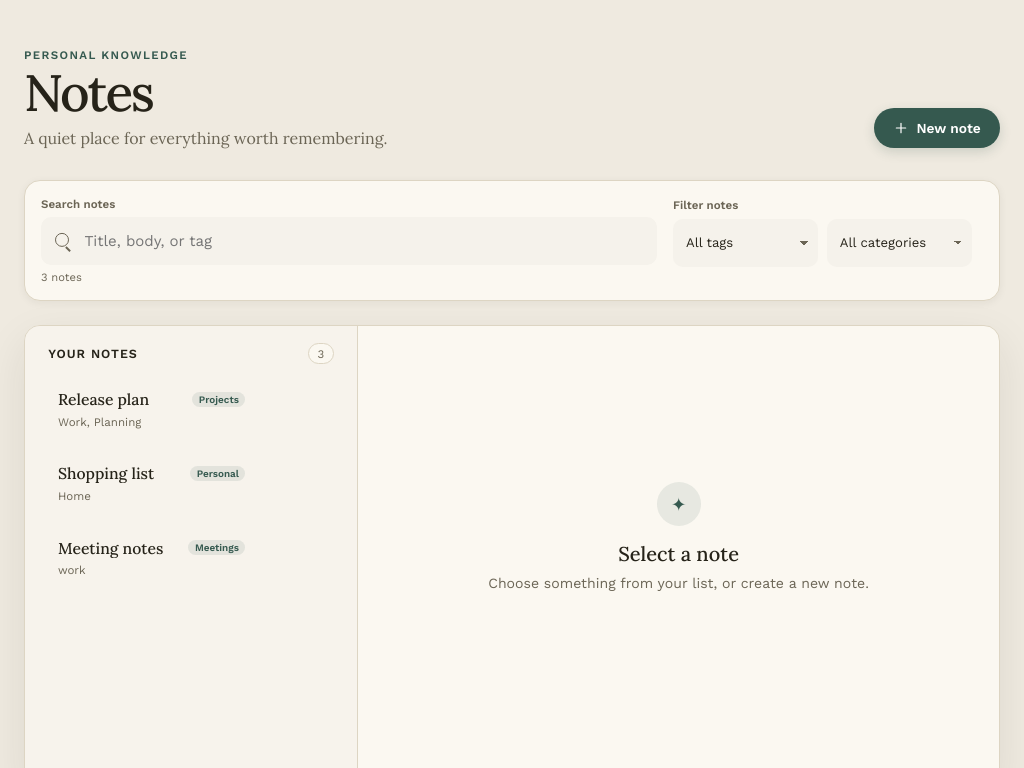
App filtering interactions › filters by tag and category together, then clears both filters
This screenshot has width=1024, height=768.
Select "Work" in the 1st dropdown named "Tag": (746, 243) [673,219,818,267]
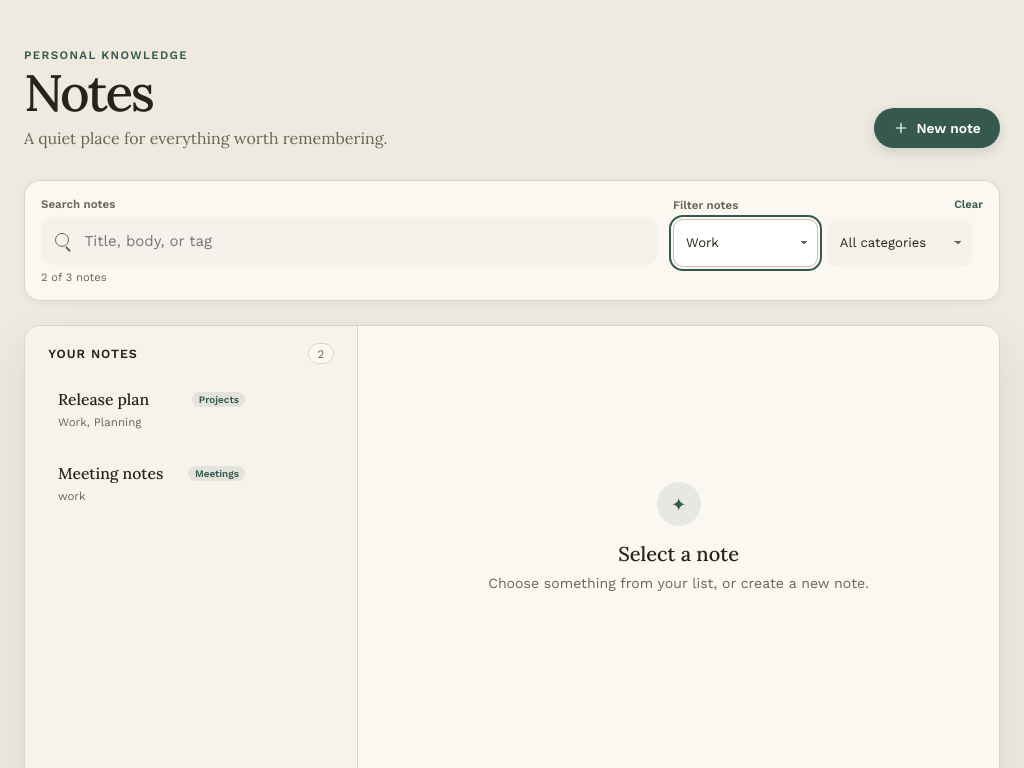
Expected: the text "Release plan" is shown, [58,389,149,409]
Now the button "Shopping list" is gone
Select "Projects" in the 2nd dropdown named "Category": (899, 243) [827,219,972,267]
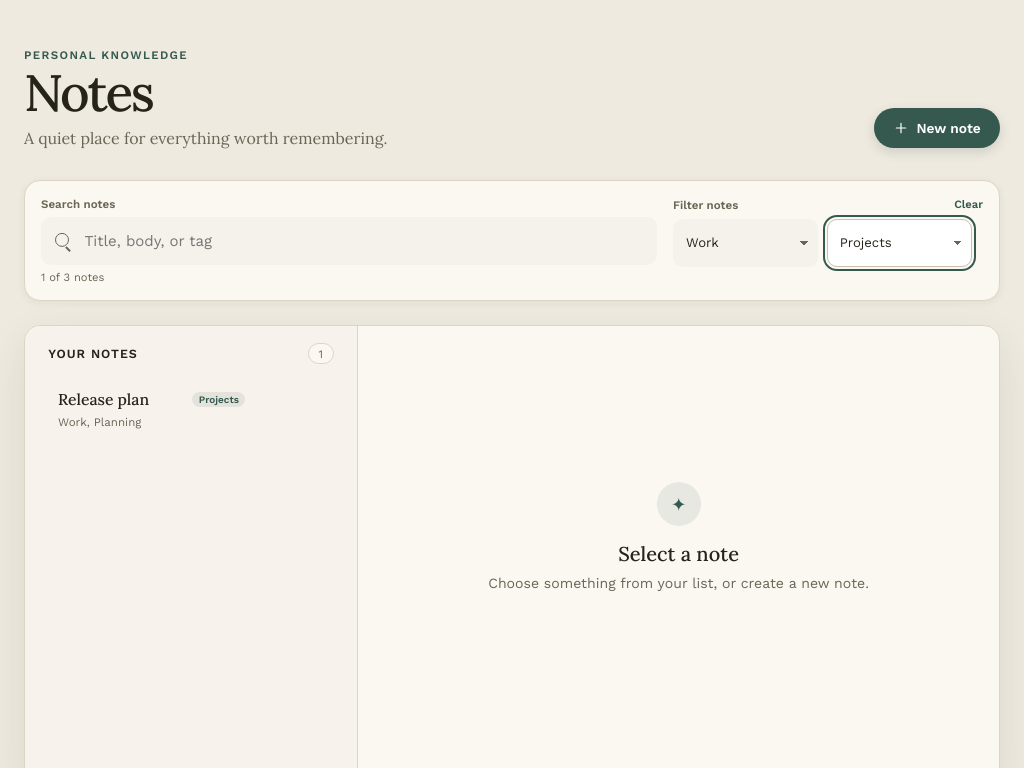
Expected: the text "Release plan" is shown, [58,389,149,409]
Now the button "Meeting notes" is gone
Now the text "1 of 3 notes" is shown, box [41,271,104,284]
Click the button "Clear": (969, 205) [954,198,983,211]
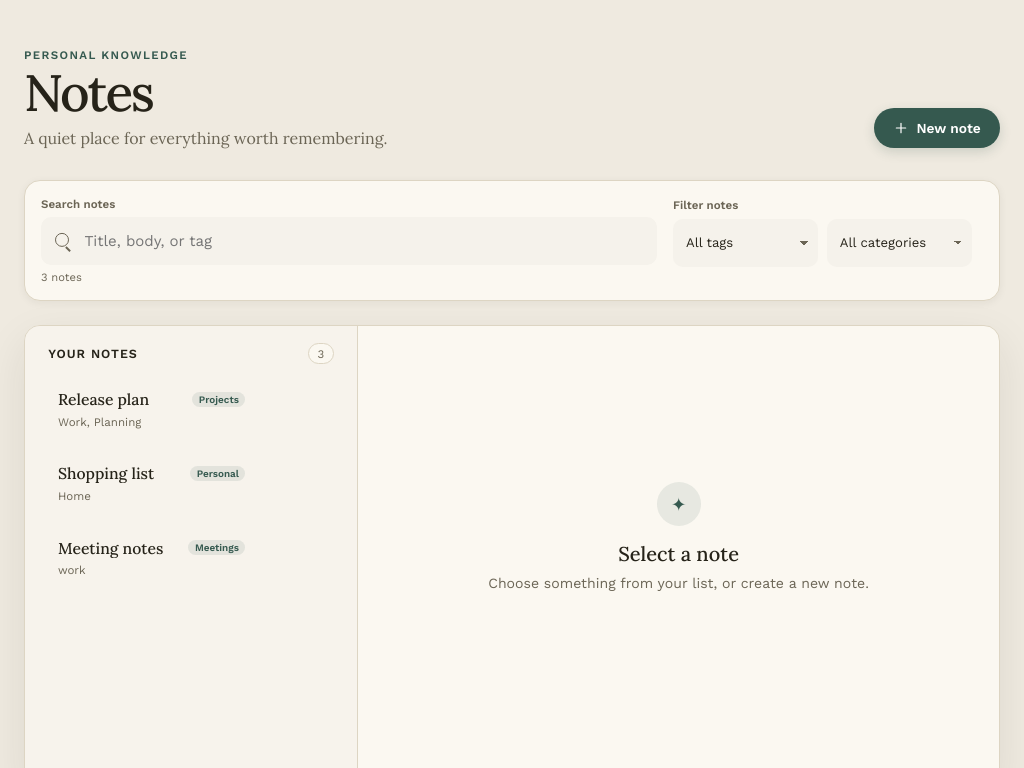
Expected: the text "Release plan" is shown, [58,389,149,409]
Now the text "Shopping list" is shown, box [58,464,154,484]
Now the text "Meeting notes" is shown, box [58,538,163,558]
